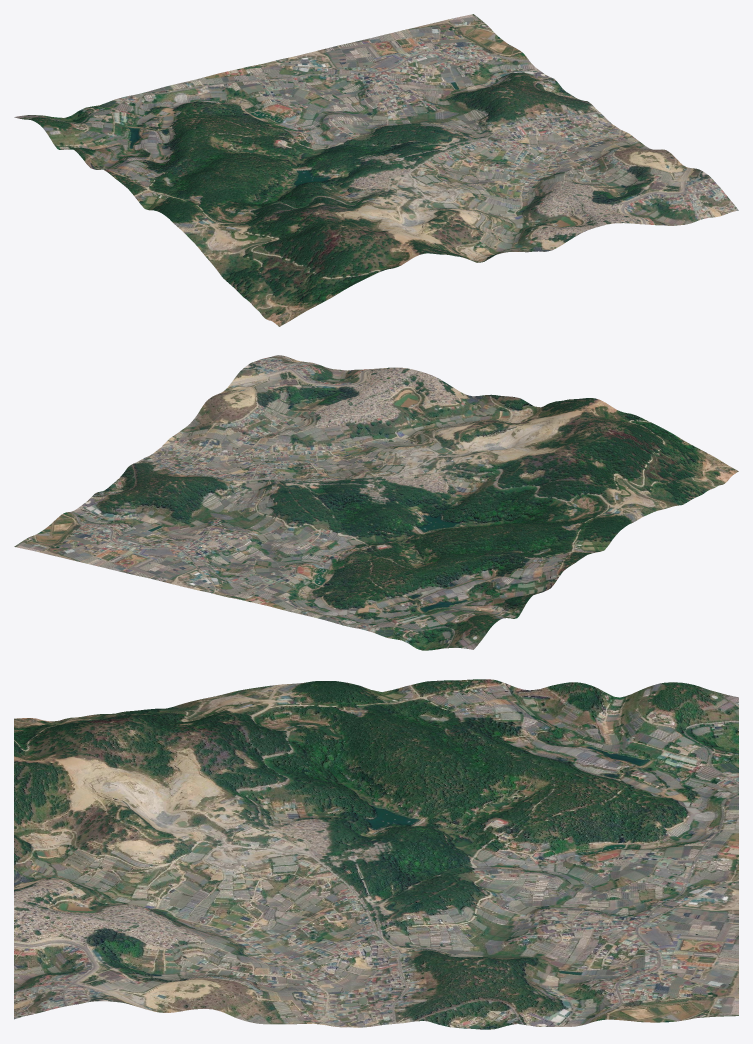
File: terrain_real_T_W02_N00.glb
The picture shows the model from 3 angles, top to bottom: view 1: azimuth 30°, elevation 25°; view 2: azimuth 150°, elevation 25°; view 3: azimuth 270°, elevation 25°; orthographic projection. The views are drawn at different scales.
Parts seen in each view (by area): view 1: TerrainReal_T_W02_N00; view 2: TerrainReal_T_W02_N00; view 3: TerrainReal_T_W02_N00.
Boxes of the visible parts, left/top/right/bottom form: TerrainReal_T_W02_N00: left=14, top=14, right=738, bottom=326; TerrainReal_T_W02_N00: left=14, top=355, right=738, bottom=650; TerrainReal_T_W02_N00: left=14, top=679, right=738, bottom=1029.
Size of the model in its own units: 2000 by 199 by 2000.
1 material, 1 textured.
